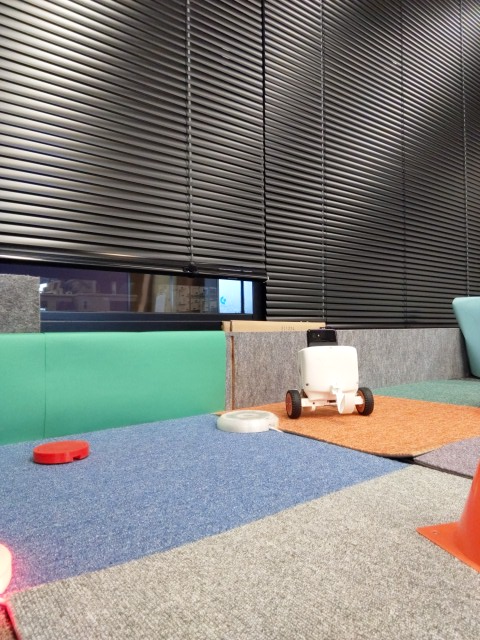bl: (283, 325, 377, 419)
o: (215, 405, 281, 436)
